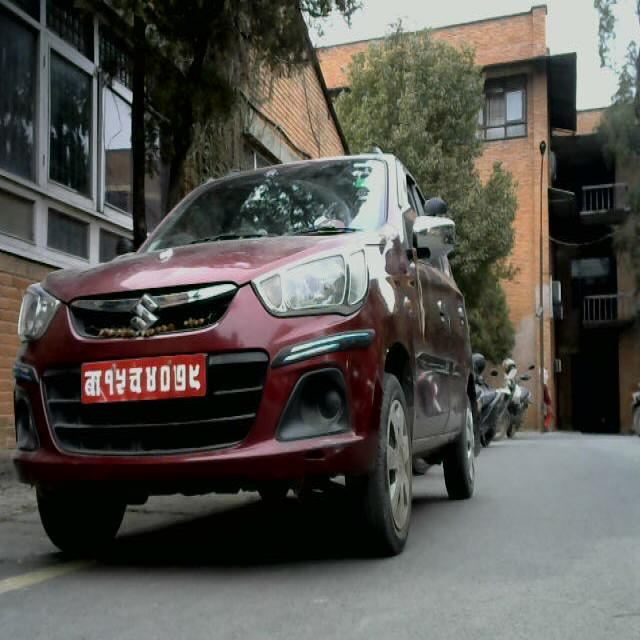Bike: (490, 356, 538, 448)
Car: (15, 159, 478, 560)
Pole: (536, 135, 554, 455)
trees: (347, 13, 483, 161)
